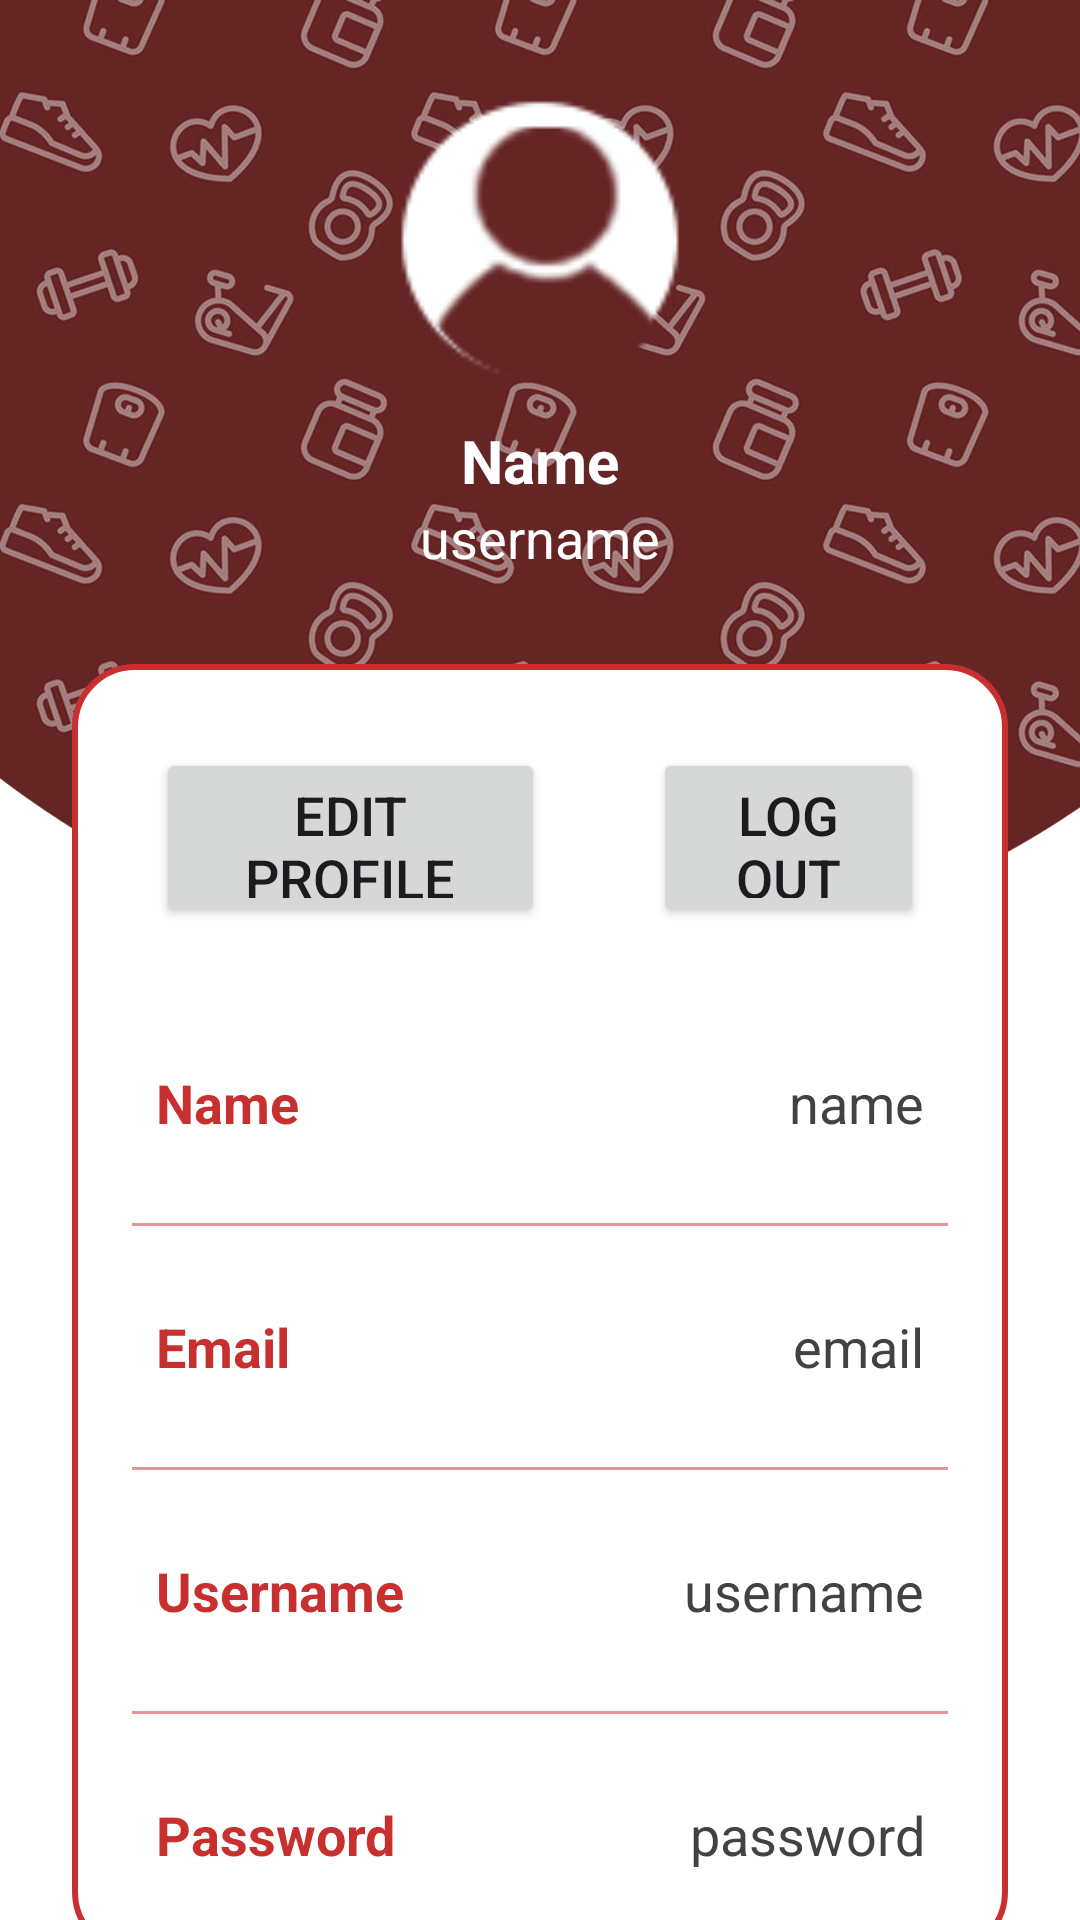

Icon bounding boxes for this 1080px×1920px phone screenshot, format rect(x1, y1, x2, y2):
profilepic: rect(390, 92, 690, 390)
